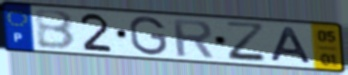2: (78, 12, 114, 54)
A: (270, 26, 315, 66)
B: (32, 9, 77, 52)
G: (127, 15, 170, 56)
R: (170, 17, 216, 59)
Z: (224, 20, 270, 65)
